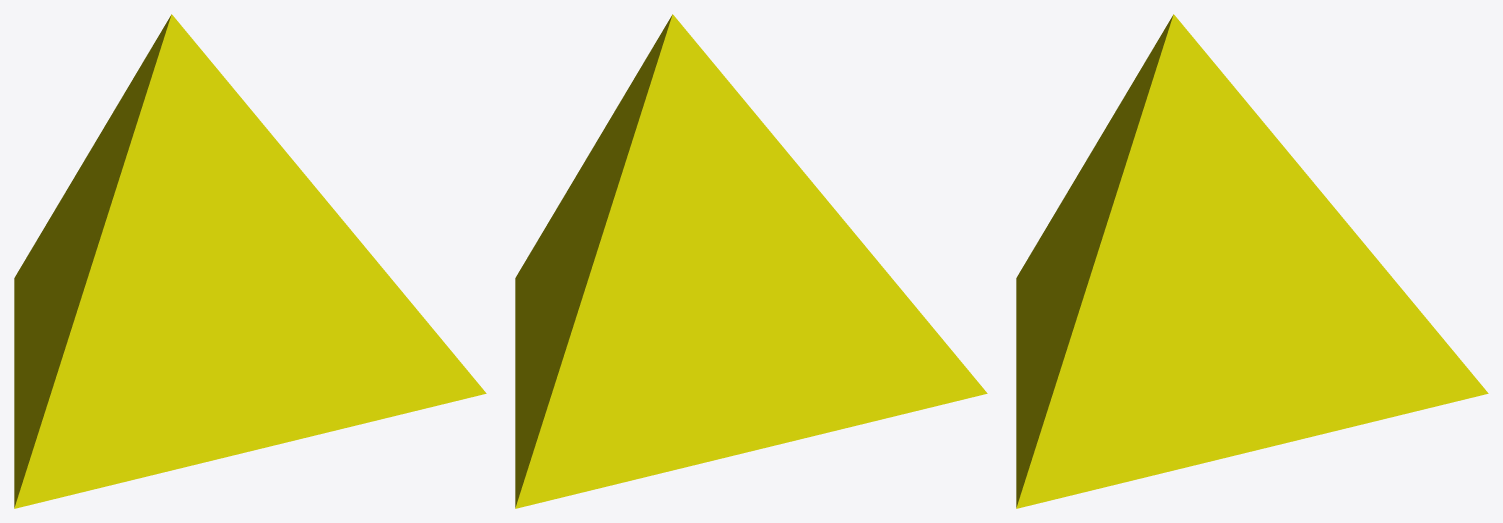
Rendered from triangle.fbx.
The picture shows the model from 3 angles, left to right: view 1: azimuth 30°, elevation 25°; view 2: azimuth 150°, elevation 25°; view 3: azimuth 270°, elevation 25°; orthographic projection.
Visible parts, largest first — view 1: Cone; view 2: Cone; view 3: Cone.
Boxes of the visible parts, x1,y1,x2,y2 form: Cone: (14, 14, 486, 508); Cone: (515, 14, 987, 508); Cone: (1016, 14, 1488, 508).
Bounding box in the file's own units: 173 × 133 × 150.
